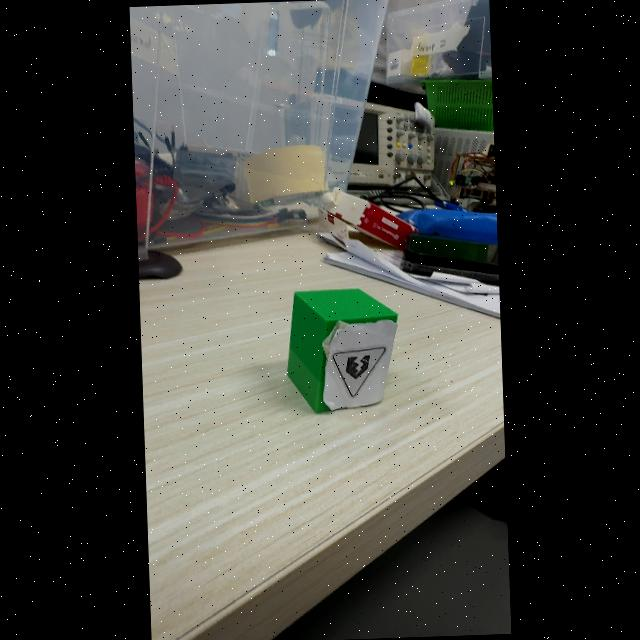Earthquake: (332, 346, 385, 397)
